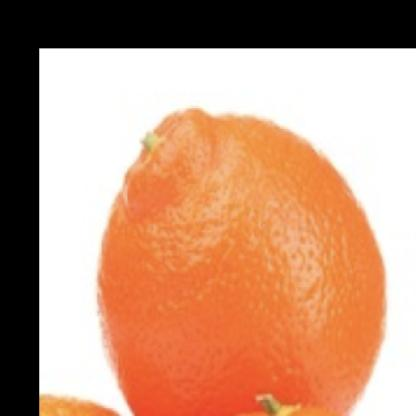fresh: (98, 105, 388, 416)
